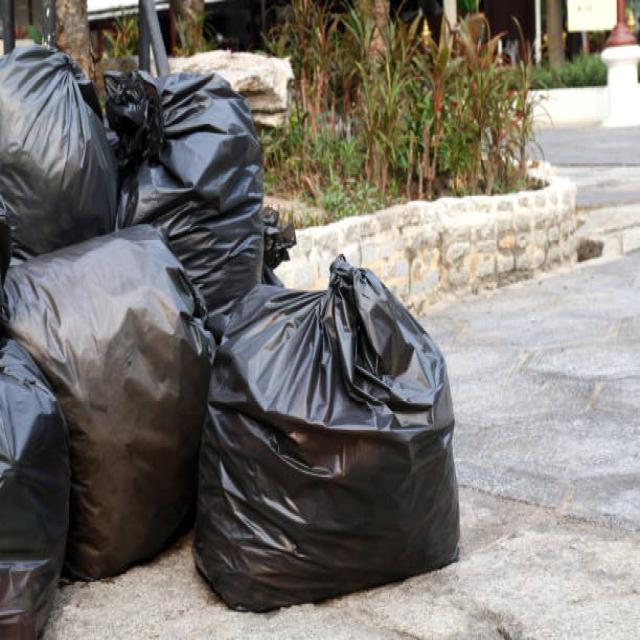sampah-detection: (196, 248, 470, 620), (0, 224, 200, 640), (110, 50, 266, 312), (0, 37, 122, 255)
